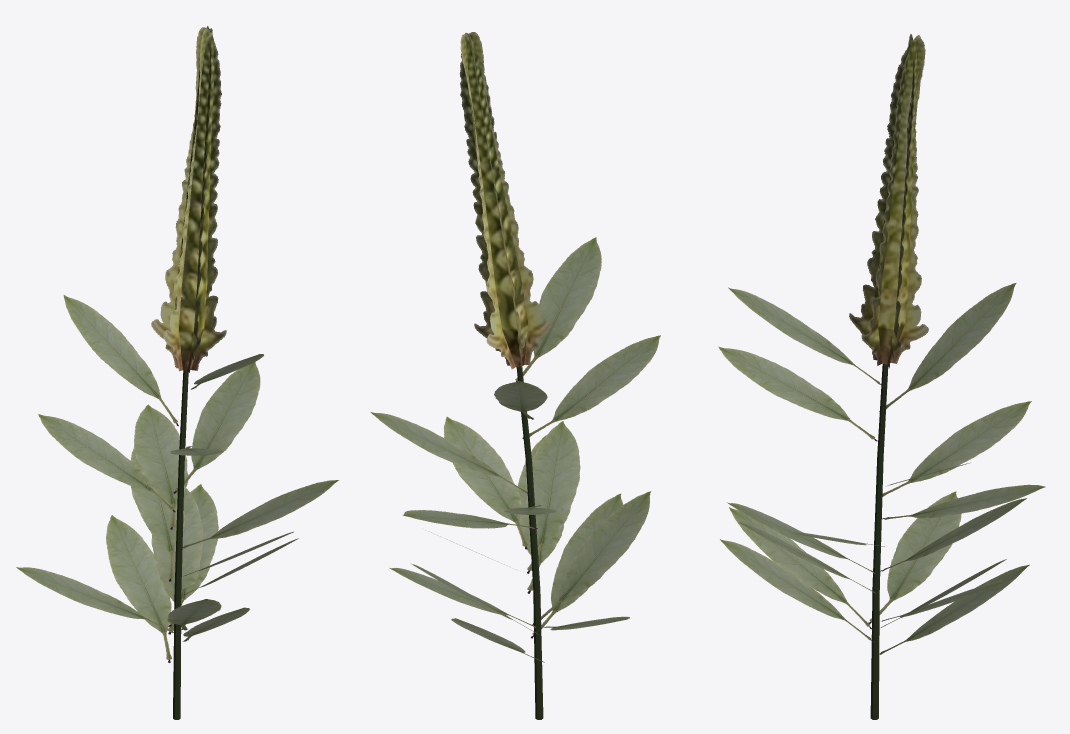
File: category_mesh_flower_4_v2.glb
The picture shows the model from 3 angles, left to right: view 1: azimuth 30°, elevation 25°; view 2: azimuth 150°, elevation 25°; view 3: azimuth 270°, elevation 25°; orthographic projection. The views are drawn at different scales.
Visible parts, largest first — view 1: category_mesh_flower_4_v2; view 2: category_mesh_flower_4_v2; view 3: category_mesh_flower_4_v2.
Part boxes in pixels (x1,y1,x2,y2): category_mesh_flower_4_v2: (16,26,338,719); category_mesh_flower_4_v2: (370,32,660,719); category_mesh_flower_4_v2: (718,34,1045,719).
Size of the model in its own units: 0.2824 by 0.6675 by 0.2953.
Materials: 1 (1 with a texture image).
